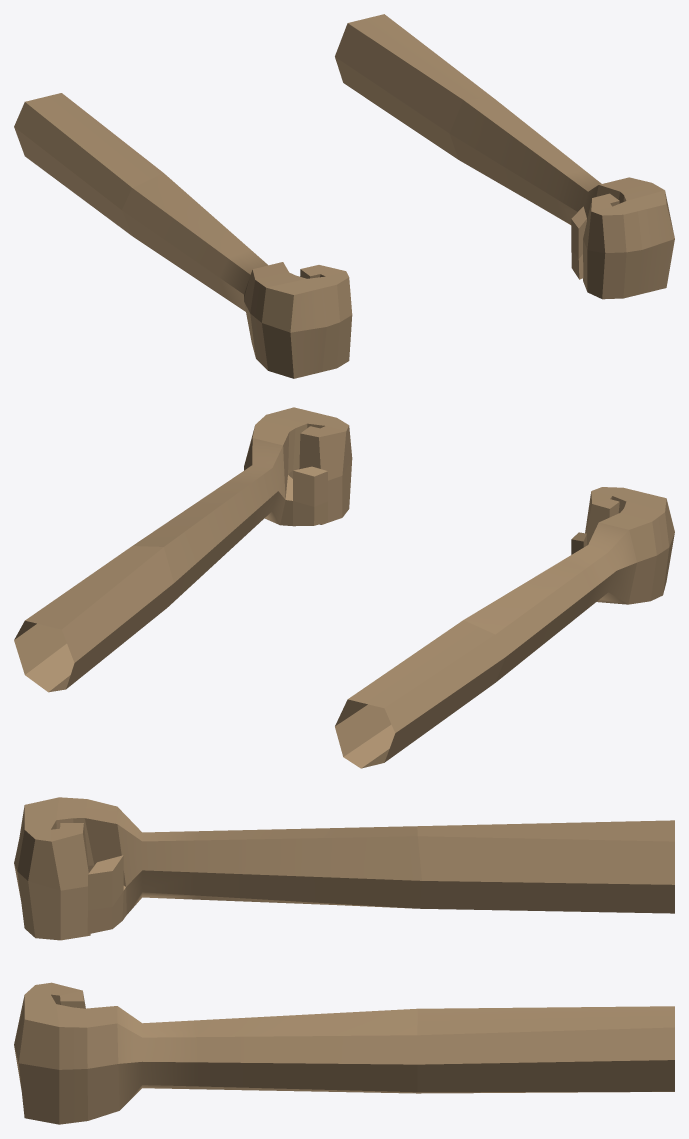
File: hands.fbx
The picture shows the model from 3 angles, top to bottom: view 1: azimuth 30°, elevation 25°; view 2: azimuth 150°, elevation 25°; view 3: azimuth 270°, elevation 25°; orthographic projection. The views are drawn at different scales.
Parts seen in each view (by area): view 1: polySurface5, polySurface4; view 2: polySurface5, polySurface4; view 3: polySurface4, polySurface5.
Boxes of the visible parts, bbox=[...] form: polySurface5: bbox=[335, 14, 674, 299]; polySurface4: bbox=[14, 93, 352, 378]; polySurface5: bbox=[14, 407, 352, 692]; polySurface4: bbox=[335, 487, 674, 768]; polySurface4: bbox=[14, 797, 674, 940]; polySurface5: bbox=[14, 982, 674, 1124].
Bounding box in the file's own units: 1.86 × 0.3653 × 2.21.
